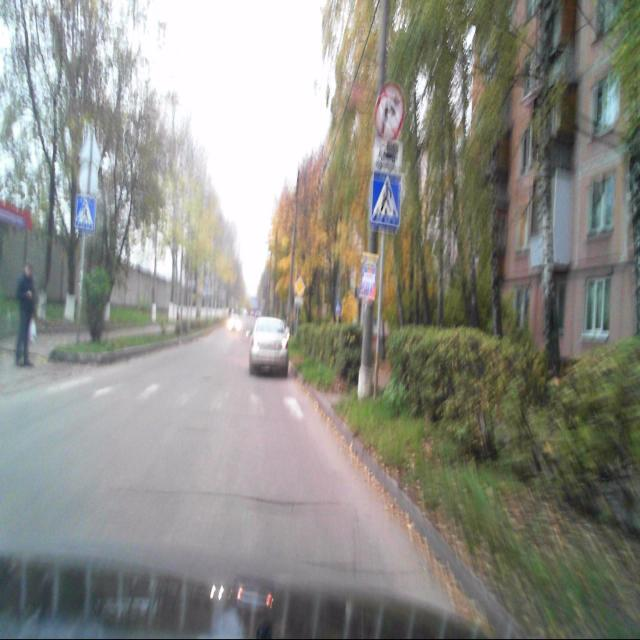road sign: (371, 173, 400, 224), (372, 143, 399, 171), (76, 196, 96, 229)
